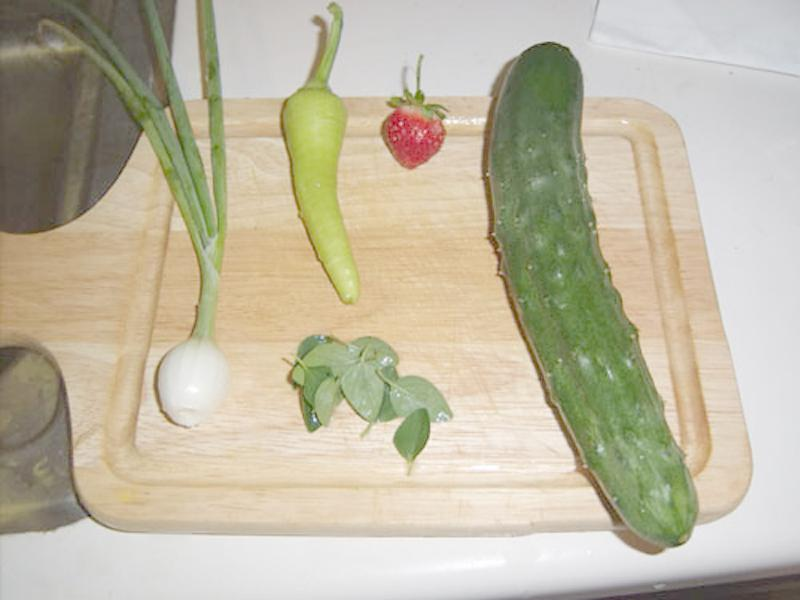Cucumber: (486, 43, 698, 547)
